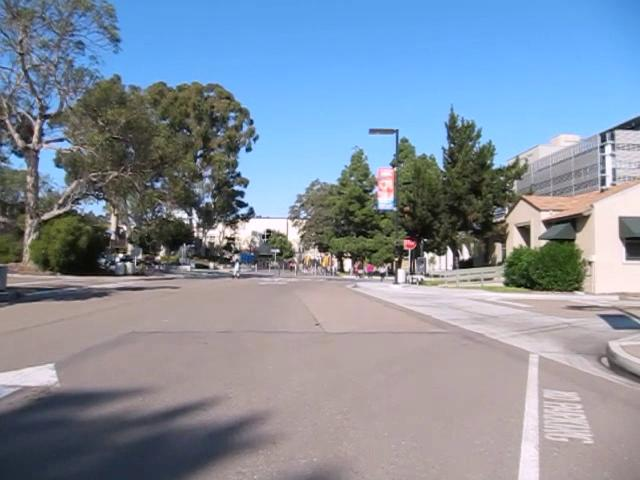stop: (403, 234, 418, 249)
